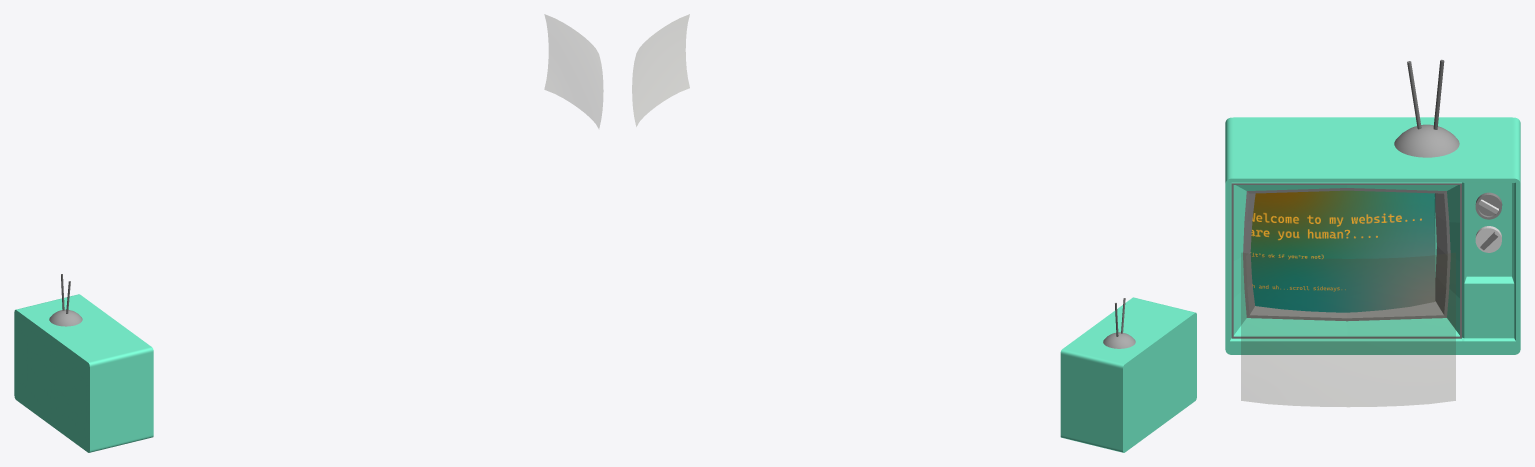
3 renders of one model, left to right at view 1: azimuth 30°, elevation 25°; view 2: azimuth 150°, elevation 25°; view 3: azimuth 270°, elevation 25°, orthographic. The views are drawn at different scales.
Visible parts, largest first — view 1: Cube, Plane.001; view 2: Cube, Plane.001; view 3: Cube, Plane.001, Plane, Cube.003, Cube.004, Sphere, Cylinder, Cylinder.001, Cylinder.002, Cylinder.003.
Part boxes in pixels (x1,y1,x2,y2): Cube: [14, 294, 153, 452]; Plane.001: [545, 15, 603, 127]; Cube: [1060, 297, 1196, 452]; Plane.001: [632, 14, 689, 126]; Cube: [1225, 117, 1520, 354]; Plane.001: [1241, 253, 1455, 406]; Plane: [1250, 190, 1435, 312]; Cube.003: [1243, 188, 1450, 321]; Cube.004: [1231, 183, 1461, 338]; Sphere: [1394, 124, 1459, 157]; Cylinder: [1475, 192, 1502, 219]; Cylinder.001: [1475, 226, 1501, 252]; Cylinder.002: [1433, 59, 1444, 129]; Cylinder.003: [1407, 61, 1421, 129].
Bounding box in the file's own units: 13.35 × 6.63 × 3.34.
Materials: 12 (1 with a texture image).
